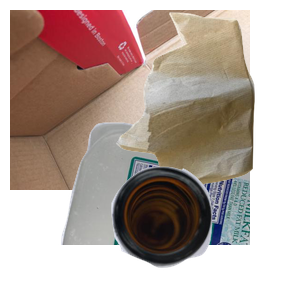cardboard: (10, 10, 250, 190)
glass: (109, 164, 300, 300)
plastic: (58, 120, 298, 300)
trash: (114, 10, 300, 189)
